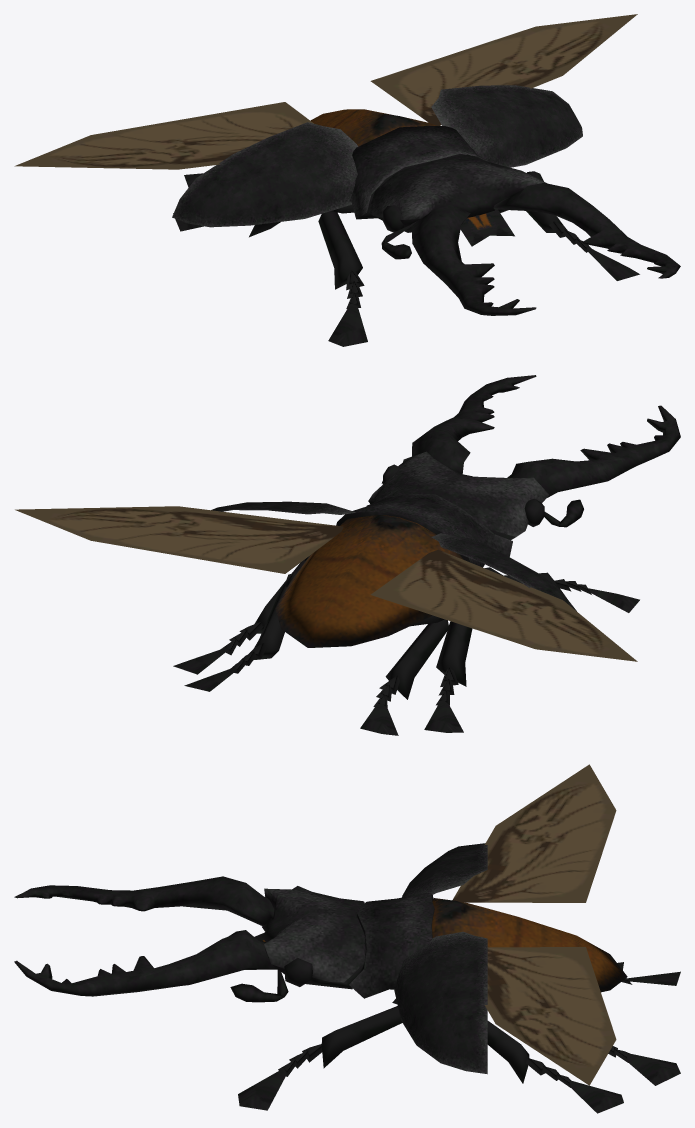
Rendered from InsectGirafanokogirikuwagata.glb.
3 views of the same model, one above another, from view 1: azimuth 30°, elevation 25°; view 2: azimuth 150°, elevation 25°; view 3: azimuth 270°, elevation 25° (orthographic). The views are drawn at different scales.
Parts seen in each view (by area): view 1: group1__mGirafanokogirikuwagata, pasted__pCube34__mWing; view 2: group1__mGirafanokogirikuwagata, pasted__pCube34__mWing; view 3: group1__mGirafanokogirikuwagata, pasted__pCube34__mWing.
Boxes of the visible parts, x1,y1,x2,y2 form: group1__mGirafanokogirikuwagata: (172,85,680,346); pasted__pCube34__mWing: (14,14,637,169); group1__mGirafanokogirikuwagata: (173,375,680,735); pasted__pCube34__mWing: (15,506,637,661); group1__mGirafanokogirikuwagata: (14,843,680,1113); pasted__pCube34__mWing: (452,764,616,1085).
Bounding box in the file's own units: 7.37 × 1.46 × 6.46.
2 materials, 2 textured.
